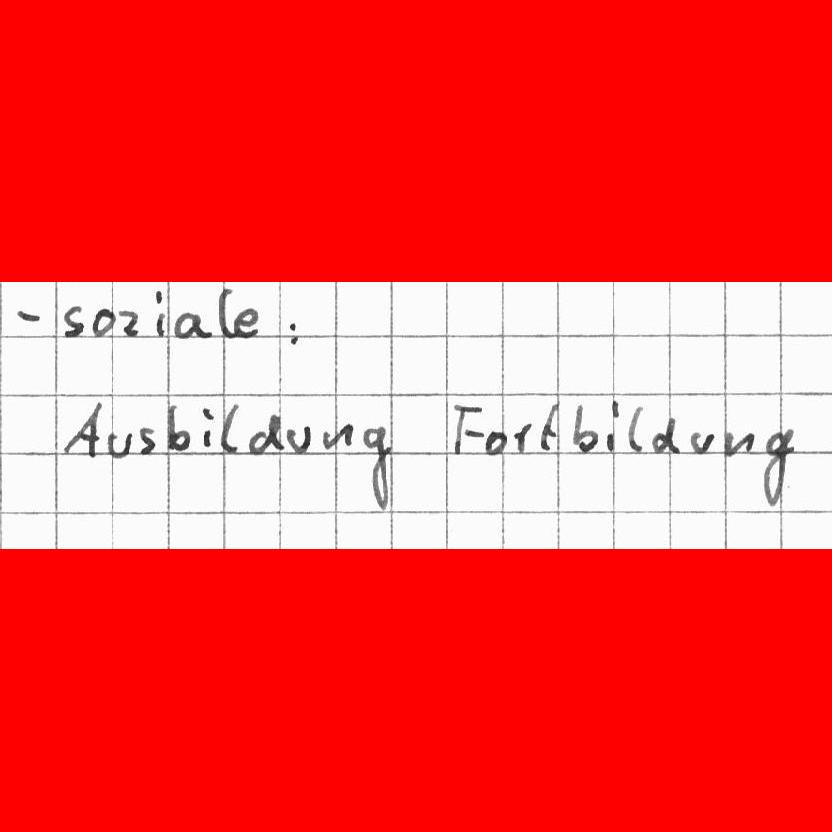Char: (360, 426, 395, 510), (760, 429, 795, 504), (62, 401, 103, 460), (448, 398, 483, 462), (247, 412, 284, 455), (571, 400, 599, 455), (163, 403, 192, 454), (218, 403, 241, 455), (651, 414, 679, 455), (174, 310, 212, 340), (539, 401, 560, 453), (625, 403, 645, 453), (215, 286, 234, 337), (723, 429, 755, 459), (322, 422, 353, 451), (60, 303, 85, 338), (605, 399, 621, 453), (234, 306, 259, 340), (103, 429, 132, 458), (92, 306, 116, 339), (153, 288, 169, 337), (286, 424, 311, 453), (511, 423, 533, 453), (689, 429, 715, 454), (119, 308, 141, 337), (13, 305, 43, 326), (136, 425, 157, 454), (483, 426, 504, 455), (199, 404, 212, 448), (285, 317, 301, 347), (0, 289, 7, 336)
